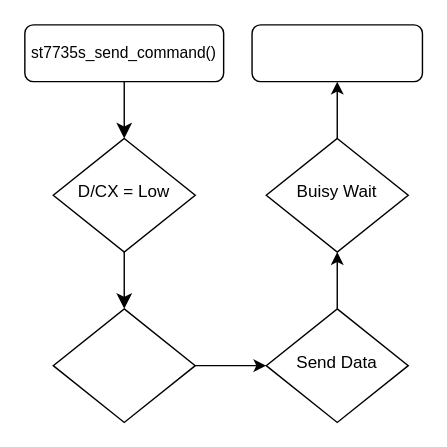
Image size: 447x447. Some labels were removed from this diagram. The shapes that lost their labels are listed below. From the top down, each one's centre as x and y in pixels, then its label:
At (336,52): "CS = High".
At (123,364): "CS = Low".
